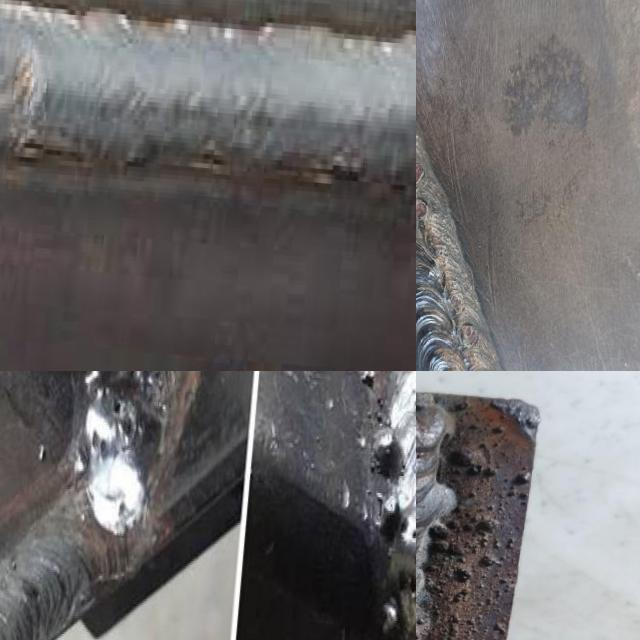defect: (111, 392, 140, 451), (90, 423, 110, 464), (461, 323, 479, 348), (446, 290, 463, 314), (416, 198, 431, 222), (434, 242, 449, 262), (416, 161, 427, 186)
